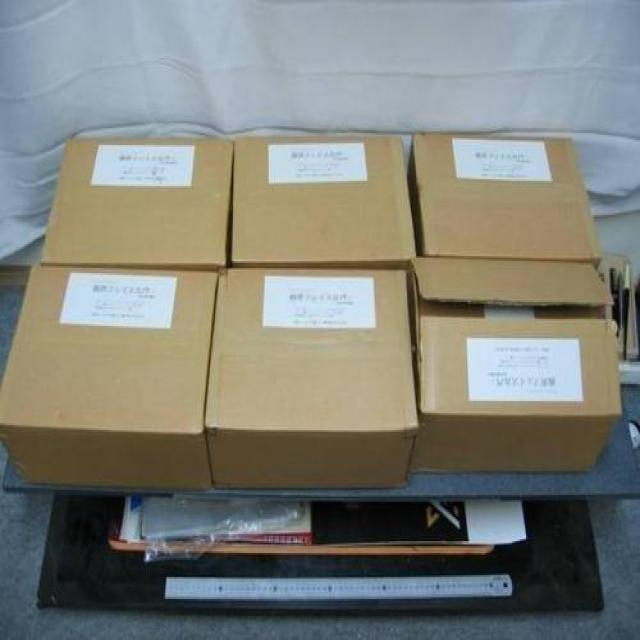box: (0, 262, 223, 484), (409, 252, 623, 475), (206, 270, 420, 493), (407, 133, 600, 263), (39, 133, 224, 267), (228, 136, 413, 264)
